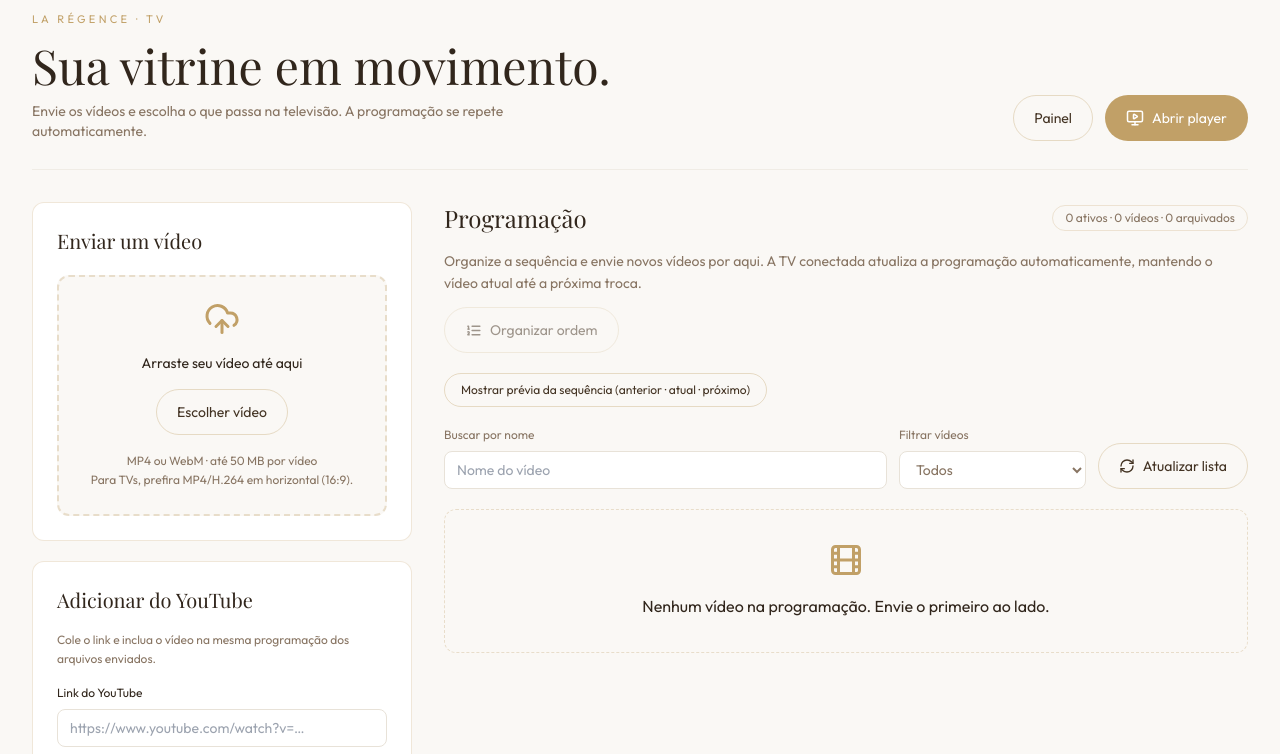
Test case: keeps the input when saving fails so an admin can retry
This screenshot has width=1280, height=754.
Type "https://youtu.be/M7lc1UVf-VE" into the field labelled "Link do YouTube" at (222, 728), box [57,709,387,747]
(page scrolled)
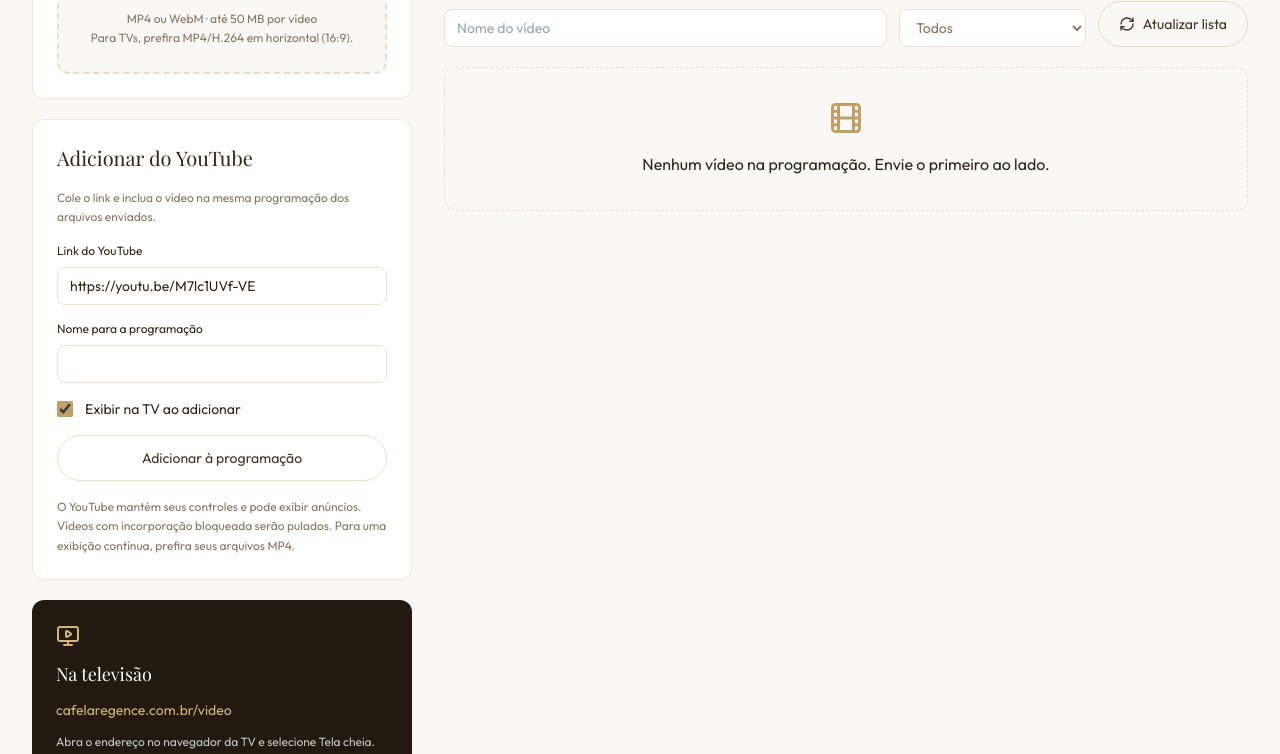
Type "Café" into the field labelled "Nome para a programação" at (222, 364), box [57,345,387,383]
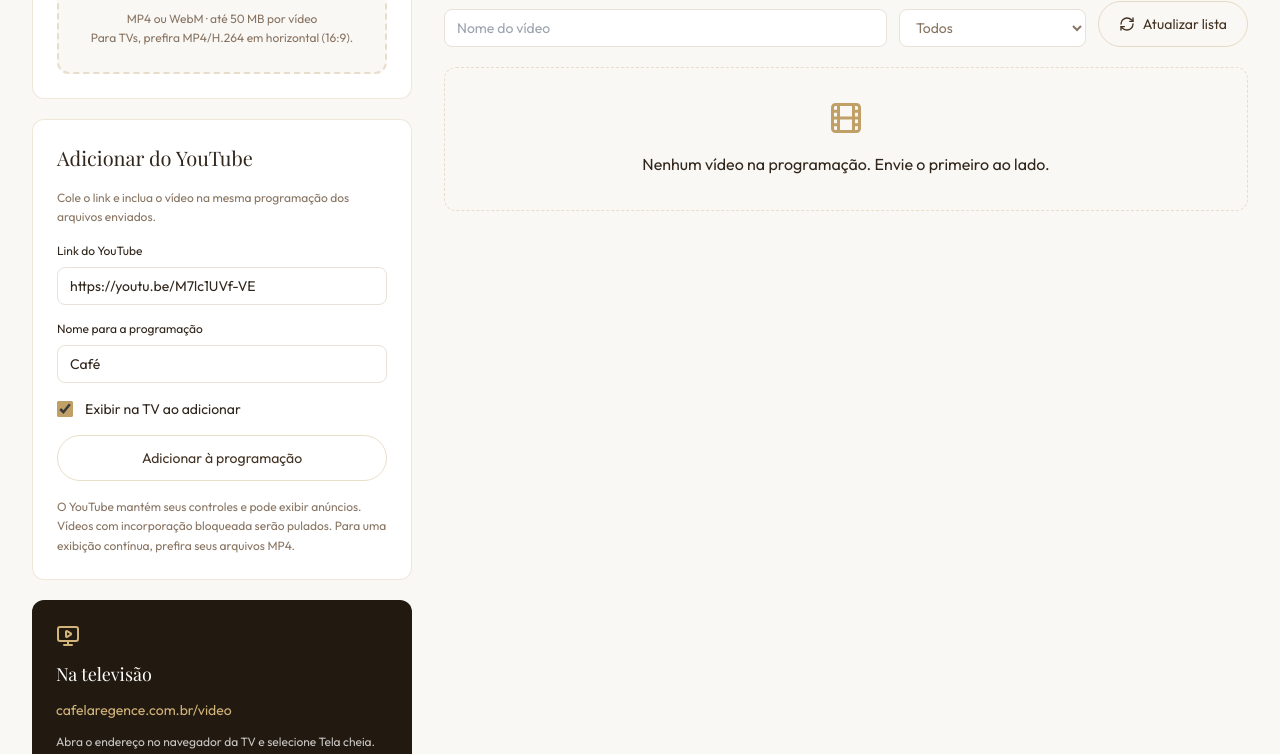
Click the button "Adicionar à programação" at (222, 458), box [57,435,387,481]
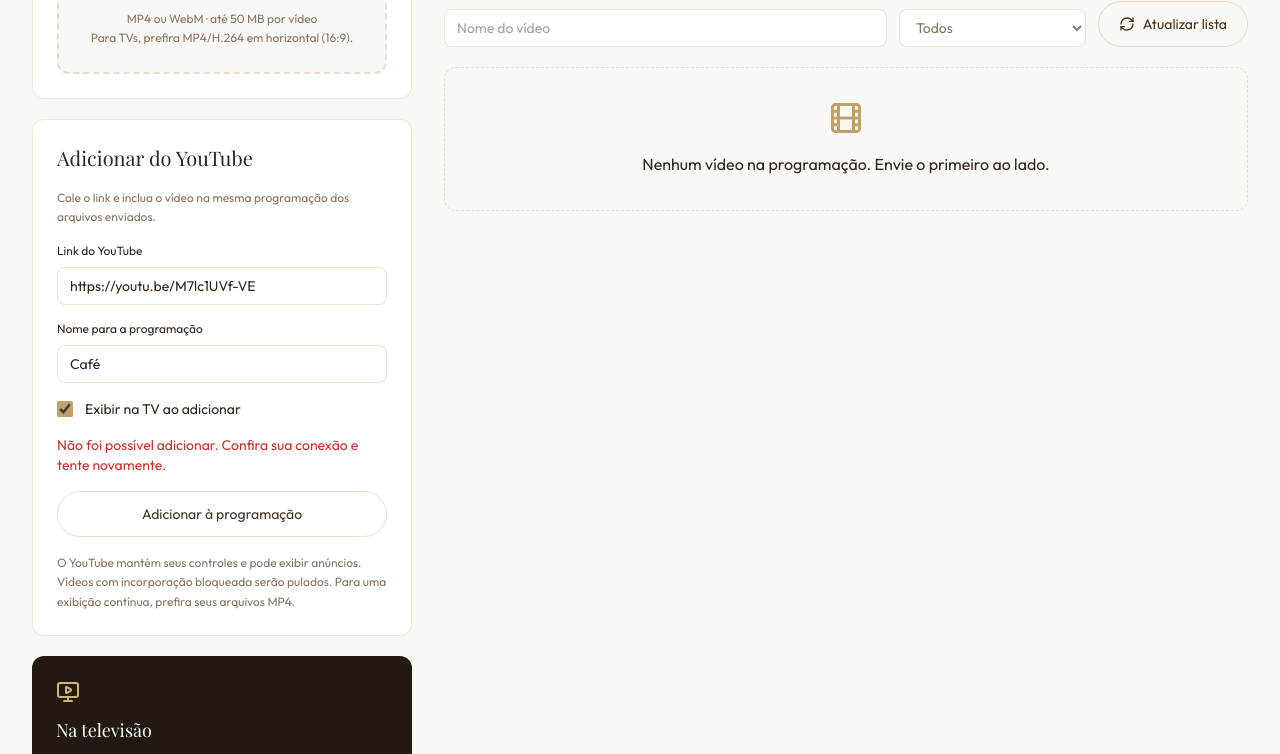
Result: the message shows "Não foi possível" at [57,436,358,474]
